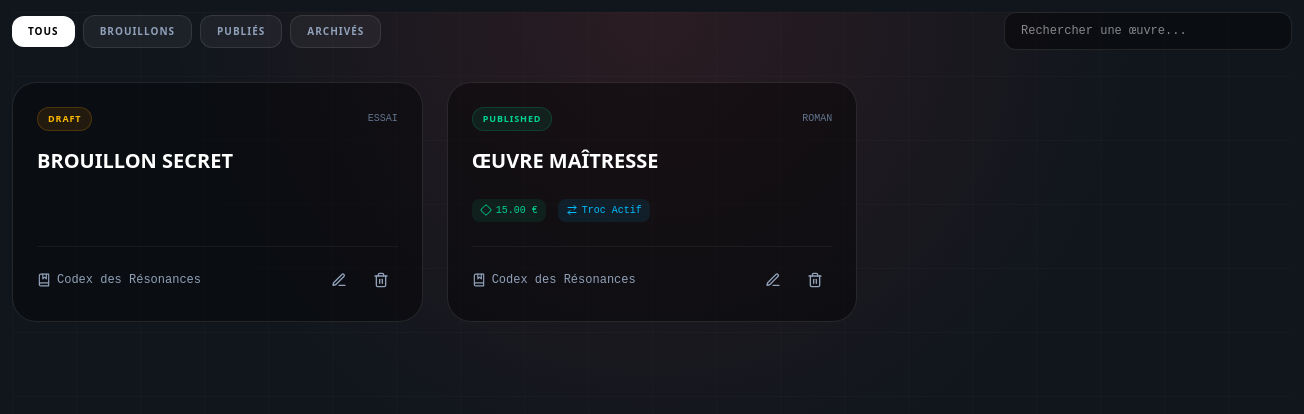
Test case: UI Bibliotek - Studio de l'Auteur & Notes d'Érudits › AuthorStudioView (Le Tableau de Bord de l'Auteur) › 🟢 doit afficher les livres de l'auteur et gérer le filtrage
The width and height of the screenshot is (1304, 414).
Expected: the heading "Brouillon Secret" is shown, [37,146,233,174]
Expected: the heading "Œuvre Maîtresse" is shown, [472,146,658,174]
Click the button "Publiés". click: (241, 31)
box: [200,14,282,48]
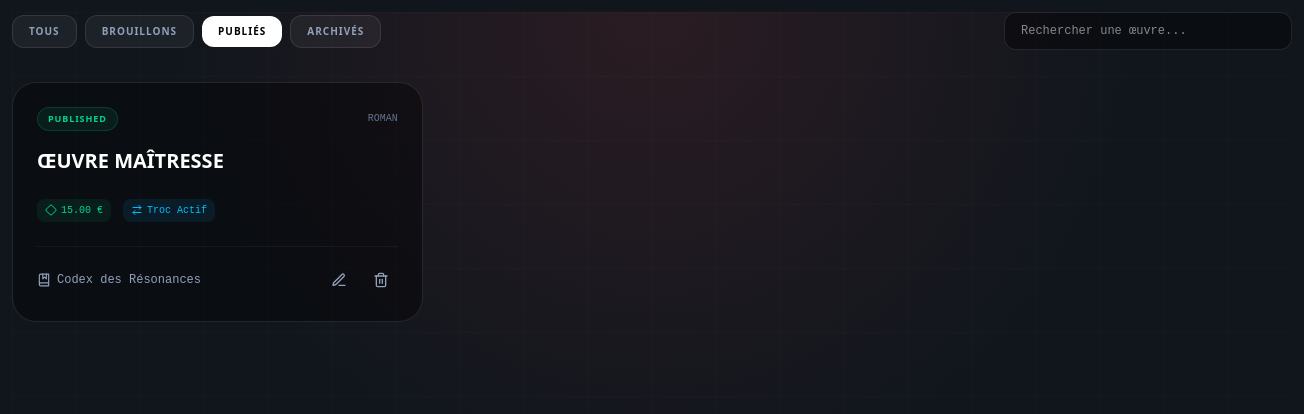
Expected: the heading "Œuvre Maîtresse" is shown, [37,146,224,174]
Expected: the heading "Brouillon Secret" is gone
